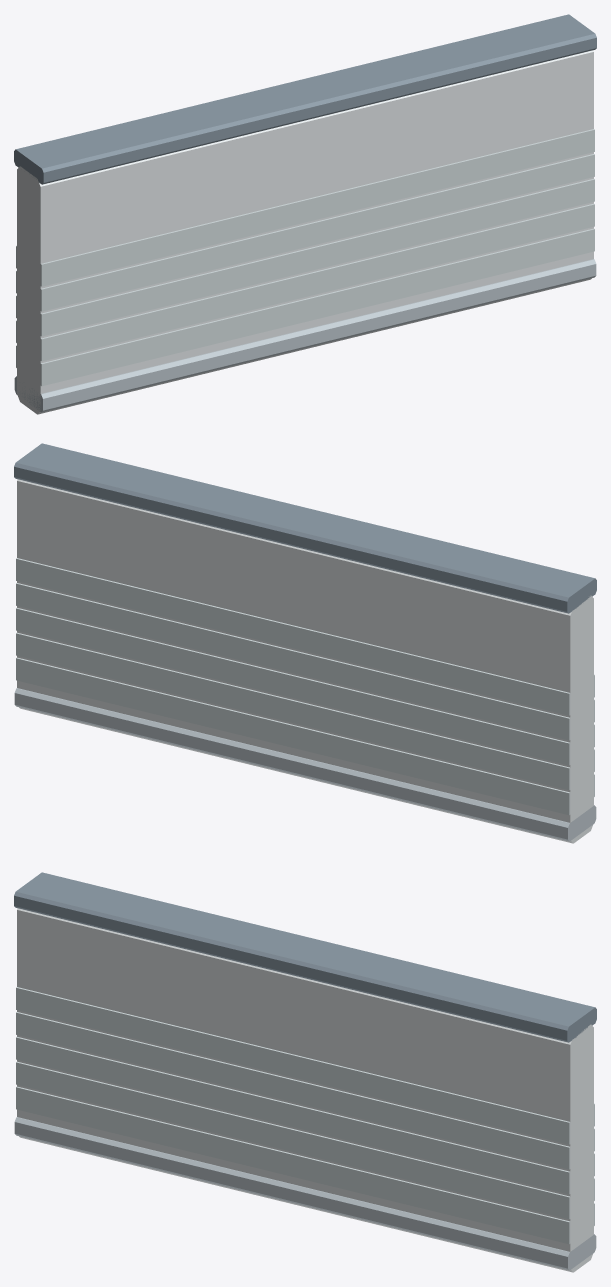
The model's file is wall_hospital_nurse.glb.
3 renders of one model, top to bottom at view 1: azimuth 30°, elevation 25°; view 2: azimuth 150°, elevation 25°; view 3: azimuth 330°, elevation 25°, orthographic.
Parts seen in each view (by area): view 1: Part_001, Part_002, Part_005, Part_009, Part_013, Part_007, Part_011, Part_003; view 2: Part_001, Part_002, Part_004, Part_008, Part_012, Part_006, Part_010, Part_003; view 3: Part_001, Part_002, Part_005, Part_009, Part_013, Part_007, Part_011, Part_003.
Boxes of the visible parts, x1,y1,x2,y2 form: Part_001: (17, 50, 593, 414); Part_002: (14, 14, 596, 184); Part_005: (40, 228, 594, 386); Part_009: (40, 179, 594, 336); Part_013: (40, 129, 594, 286); Part_007: (40, 203, 594, 361); Part_011: (40, 154, 594, 311); Part_003: (14, 259, 596, 412); Part_001: (17, 479, 593, 843); Part_002: (14, 443, 596, 613); Part_004: (16, 657, 570, 815); Part_008: (16, 608, 570, 765); Part_012: (16, 558, 570, 715); Part_006: (16, 632, 570, 790); Part_010: (16, 583, 570, 740); Part_003: (14, 688, 596, 841); Part_001: (17, 908, 593, 1272); Part_002: (14, 872, 596, 1042); Part_005: (16, 1086, 570, 1244); Part_009: (16, 1037, 570, 1194); Part_013: (16, 987, 570, 1144); Part_007: (16, 1061, 570, 1219); Part_011: (16, 1012, 570, 1169); Part_003: (14, 1117, 596, 1270).
Bounding box in the file's own units: 2.7 × 1.16 × 0.25.
